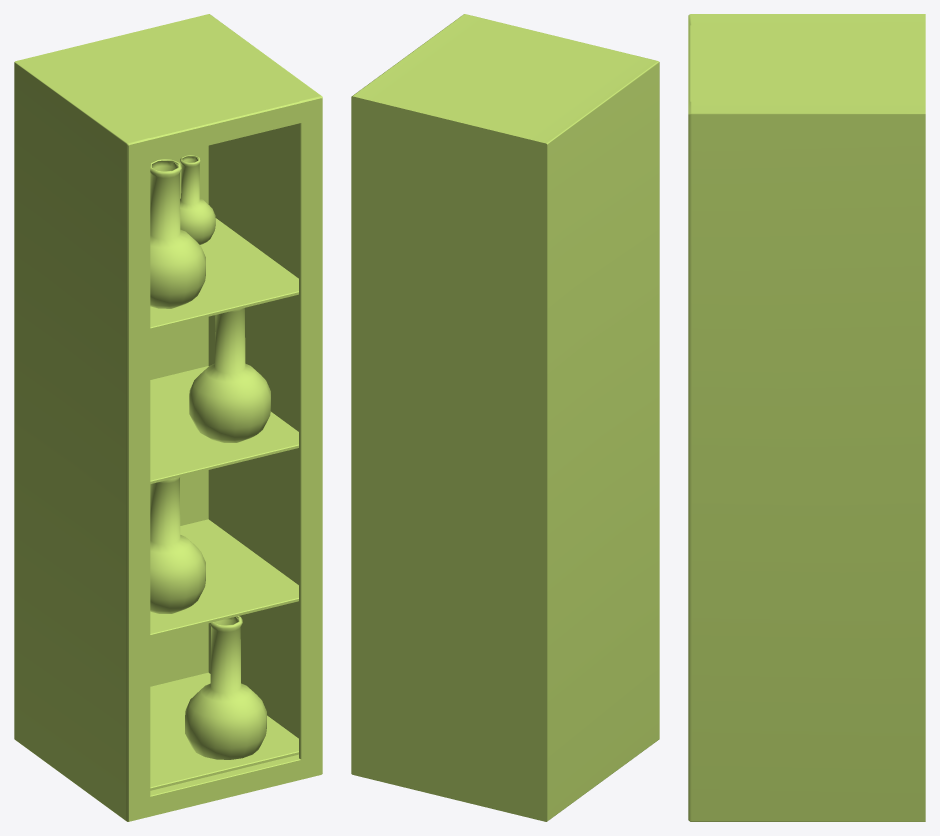
File: shelf_potion4.fbx
3 renders of one model, left to right at view 1: azimuth 30°, elevation 25°; view 2: azimuth 150°, elevation 25°; view 3: azimuth 270°, elevation 25°, orthographic. The views are drawn at different scales.
Visible parts, largest first — view 1: shelf_potion4; view 2: shelf_potion4; view 3: shelf_potion4.
Boxes of the visible parts, x1,y1,x2,y2 form: shelf_potion4: (14,14,322,821); shelf_potion4: (351,14,659,821); shelf_potion4: (688,14,925,821).
Bounding box in the file's own units: 99.62 × 330 × 99.95.
